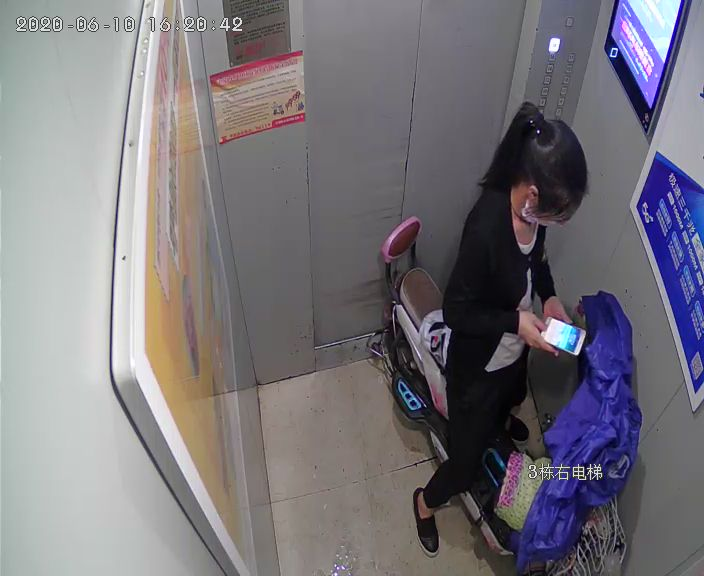Electric-bicycle: (372, 217, 634, 575)
